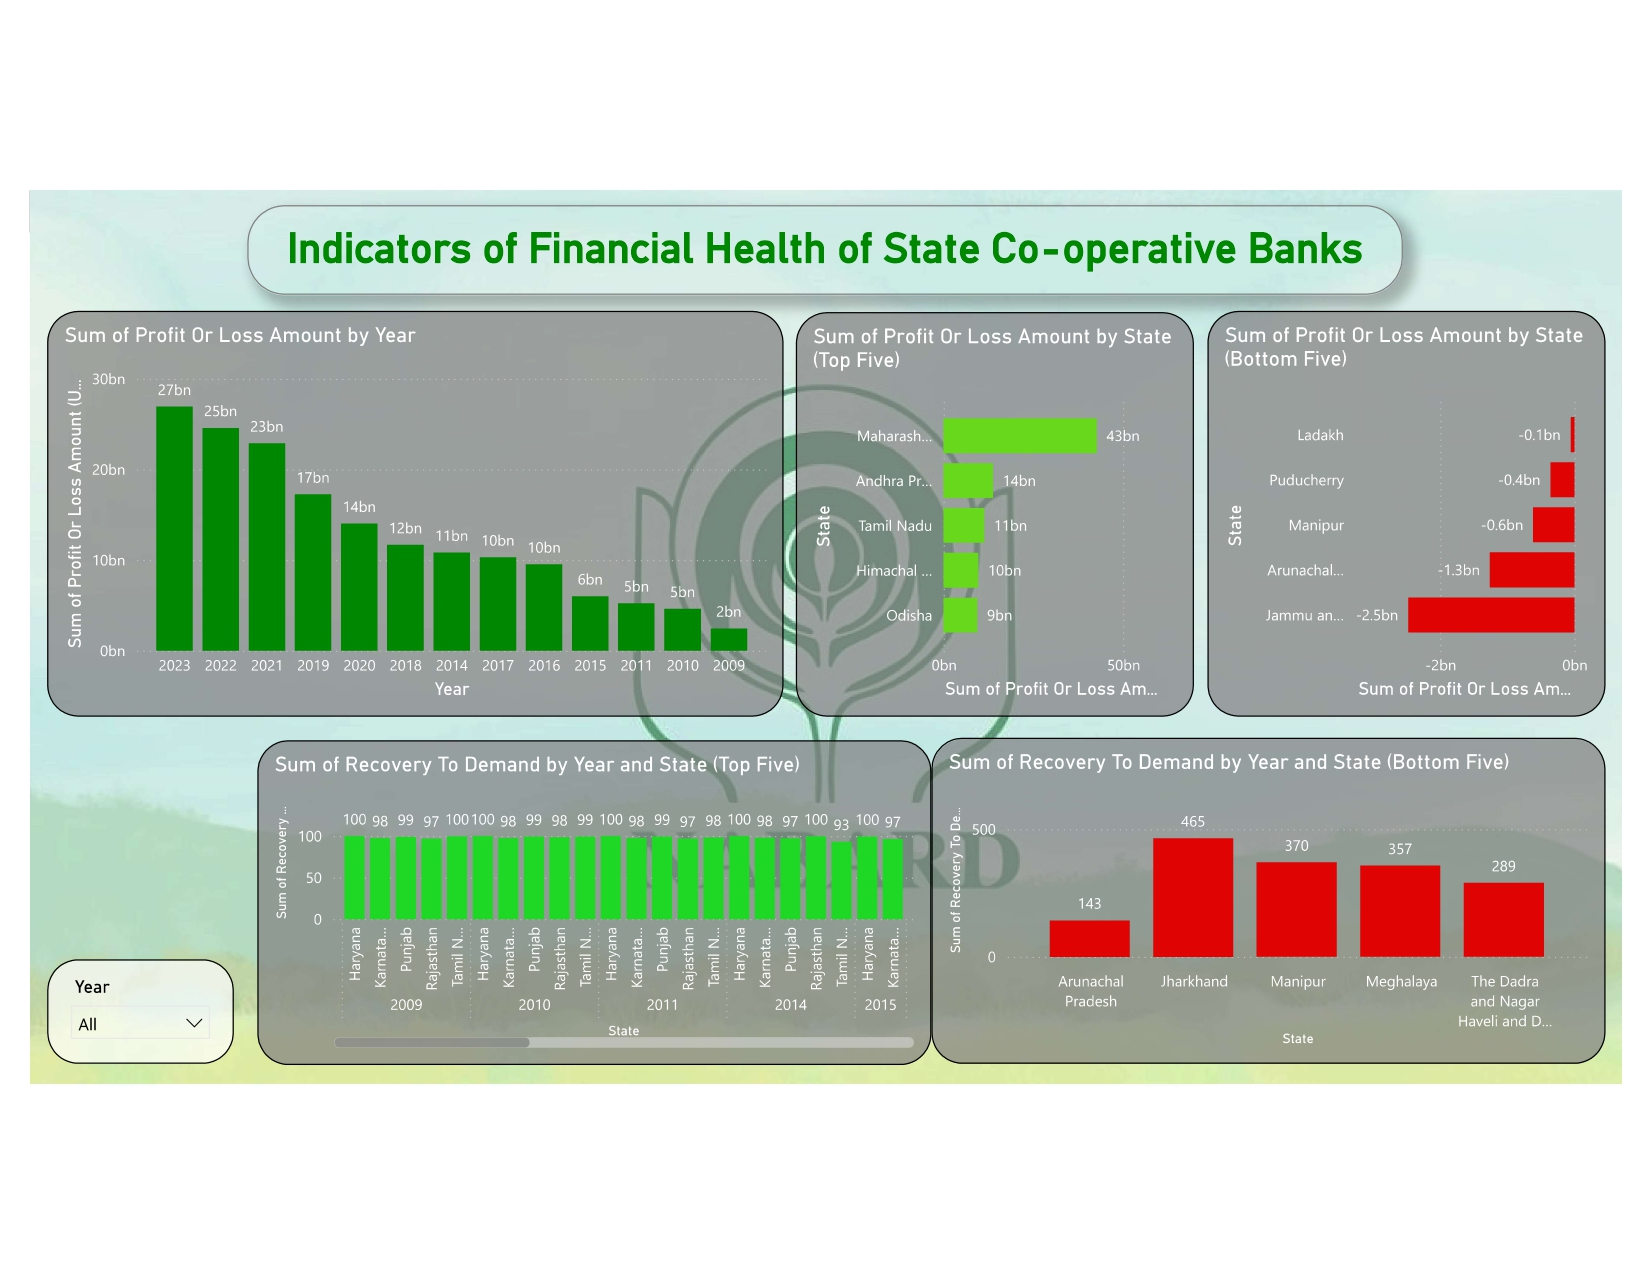

The dashboard page shown, as its layout file describes it:
{"tool":"powerbi","page":{"name":"Page 1","canvas":[1280,720],"ordinal":0},"visuals":[{"type":"slicer","fields":{"Values":["Visual - Indicators of Financi.Year"]},"box":[14.5,617.7,149.6,84.5],"z":3000},{"type":"columnChart","title":"Sum of Recovery To Demand by Year and State (Top Five)","fields":{"Category":["Visual - Indicators of Financi.Year","Visual - Indicators of Financi.State"],"Y":["Sum(Visual - Indicators of Financi.Recovery To Demand  (UOM:%(Percentage)), Scaling Factor:1)"]},"box":[183.4,441.6,541.7,261.7],"z":4000},{"type":"columnChart","title":"Sum of Recovery To Demand by Year and State (Bottom Five)","fields":{"Category":["Visual - Indicators of Financi.Year","Visual - Indicators of Financi.State"],"Y":["Sum(Visual - Indicators of Financi.Recovery To Demand  (UOM:%(Percentage)), Scaling Factor:1)"]},"box":[725.1,440.4,541.7,261.7],"z":5000},{"type":"textbox","box":[174.9,12.1,929,72.4],"z":6501},{"type":"columnChart","title":"Sum of Profit Or Loss Amount by Year","fields":{"Category":["Visual - Indicators of Financi.Year"],"Y":["Sum(Visual - Indicators of Financi.Profit Or Loss Amount (UOM:INR(IndianRupees)))"]},"box":[14.5,97.4,591.2,325.7],"z":7001},{"type":"clusteredBarChart","title":"Sum of Profit Or Loss Amount by State (Top Five)","fields":{"Category":["Visual - Indicators of Financi.State"],"Y":["Sum(Visual - Indicators of Financi.Profit Or Loss Amount (UOM:INR(IndianRupees)))"]},"box":[616.5,97.7,319.7,325.7],"z":8501},{"type":"clusteredBarChart","title":"Sum of Profit Or Loss Amount by State (Bottom Five)","fields":{"Category":["Visual - Indicators of Financi.State"],"Y":["Sum(Visual - Indicators of Financi.Profit Or Loss Amount (UOM:INR(IndianRupees)))"]},"box":[947.1,97.4,320.4,325.3],"z":11501}]}

Visuals, with their boxes on the page's 1280x720 design canvas (x1, y1, x2, y2). These are canvas units, not pixel positions in the 1650x1275 screenshot, which may show the page scaled, cropped or inside an application window:
slicer - Visual - Indicators of Financi.Year: x1=14 y1=618 x2=164 y2=702
"Sum of Recovery To Demand by Year and State (Top Five)" columnChart: x1=183 y1=442 x2=725 y2=703
"Sum of Recovery To Demand by Year and State (Bottom Five)" columnChart: x1=725 y1=440 x2=1267 y2=702
textbox: x1=175 y1=12 x2=1104 y2=84
"Sum of Profit Or Loss Amount by Year" columnChart: x1=14 y1=97 x2=606 y2=423
"Sum of Profit Or Loss Amount by State (Top Five)" clusteredBarChart: x1=616 y1=98 x2=936 y2=423
"Sum of Profit Or Loss Amount by State (Bottom Five)" clusteredBarChart: x1=947 y1=97 x2=1268 y2=423
